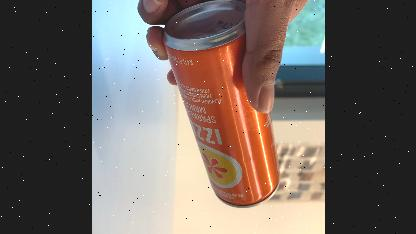Can: (159, 0, 281, 211)
